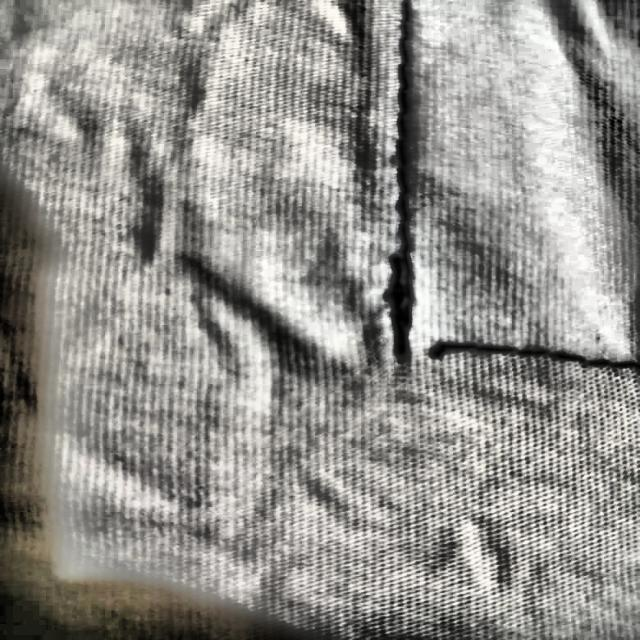gray stitch: (368, 264, 518, 428)
